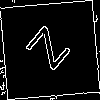Z: (25, 25, 80, 78)
